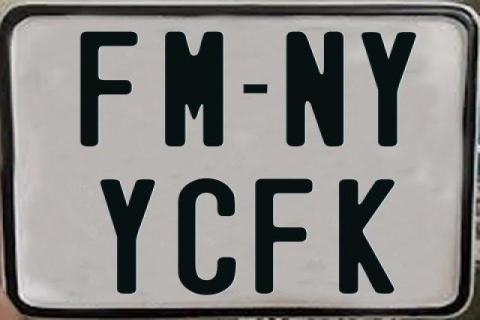C: (175, 176, 234, 296)
F: (78, 30, 139, 148), (255, 178, 314, 296)
K: (336, 177, 392, 295)
M: (163, 31, 224, 146)
N: (285, 29, 343, 145)
Y: (360, 31, 419, 151), (100, 178, 156, 296)
